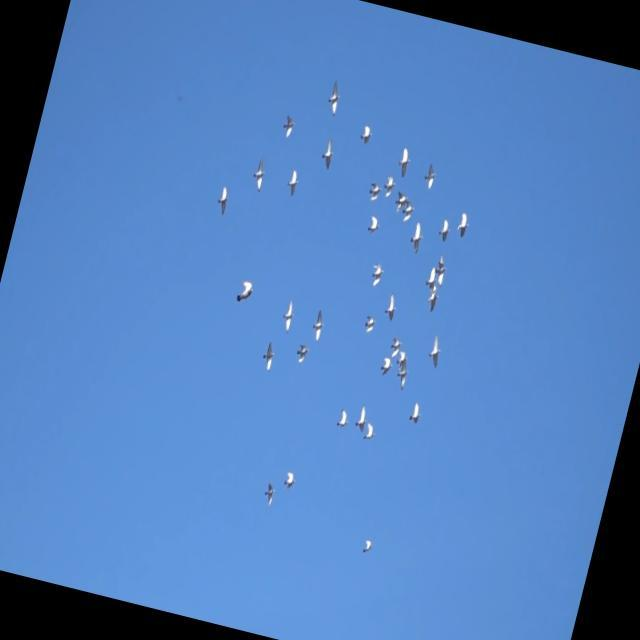bird: (423, 332, 446, 372), (323, 77, 345, 118), (307, 307, 330, 345), (250, 154, 270, 192), (233, 276, 256, 309), (278, 298, 298, 334), (317, 137, 338, 171), (257, 339, 278, 372), (423, 282, 443, 316), (432, 253, 450, 290), (393, 147, 413, 180), (381, 291, 401, 324), (352, 401, 372, 434), (407, 220, 425, 256), (393, 356, 413, 387), (366, 261, 386, 291), (213, 184, 232, 215), (279, 112, 297, 141), (283, 169, 302, 196), (377, 354, 396, 381), (421, 162, 439, 189), (454, 211, 472, 238), (261, 480, 278, 508), (365, 179, 383, 205), (423, 264, 439, 293), (292, 340, 311, 364), (356, 123, 374, 148), (436, 217, 453, 243), (334, 405, 351, 431), (361, 418, 378, 444), (361, 311, 379, 335), (409, 399, 425, 425), (386, 336, 403, 360), (364, 212, 381, 235), (281, 468, 298, 491), (380, 174, 396, 198), (400, 200, 416, 223), (392, 190, 408, 212), (360, 535, 375, 557)
